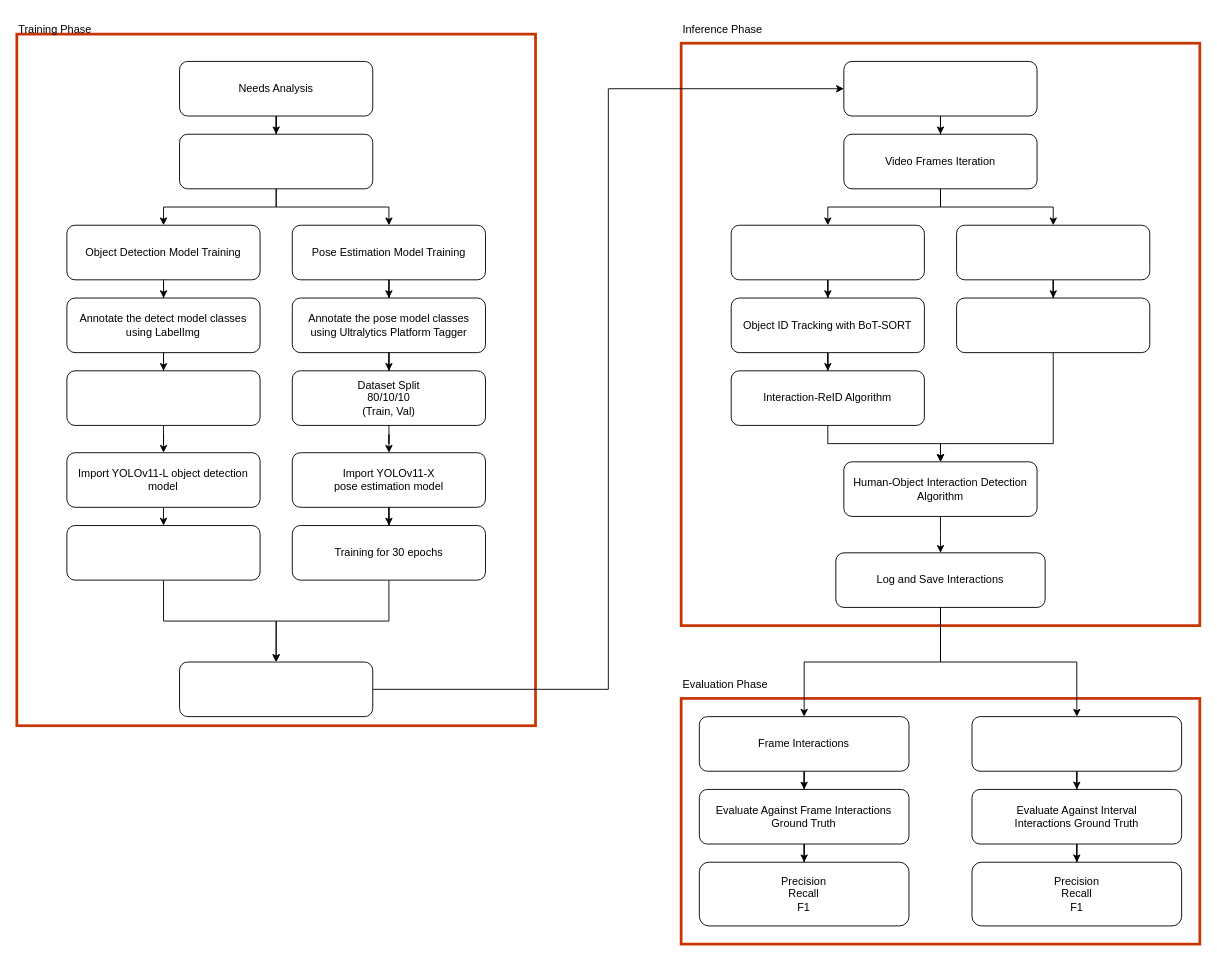
This 1217x961 diagram has some shape labels left out. Here are the shapes that lost their labels. From the top down, the centre of each, then its label:
At (940,88): "Video Input".
At (276,161): "Data Collection & Preparation".
At (827,252): "Object Detection Model Inference for Each Frame".
At (1053,252): "Pose Estimation Model Inference for Each Frame".
At (1053,325): "Person ID Tracking with BoT-SORT".
At (163,397): "Dataset Split 80/10/10 (Train, Val, Test)".
At (163,552): "Train for 100 epochs".
At (276,689): "Model Validation".
At (1076,743): "Interval Interactions".
